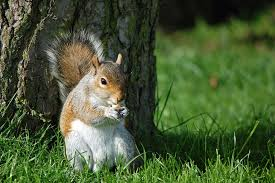squirrel: (55, 31, 138, 168)
